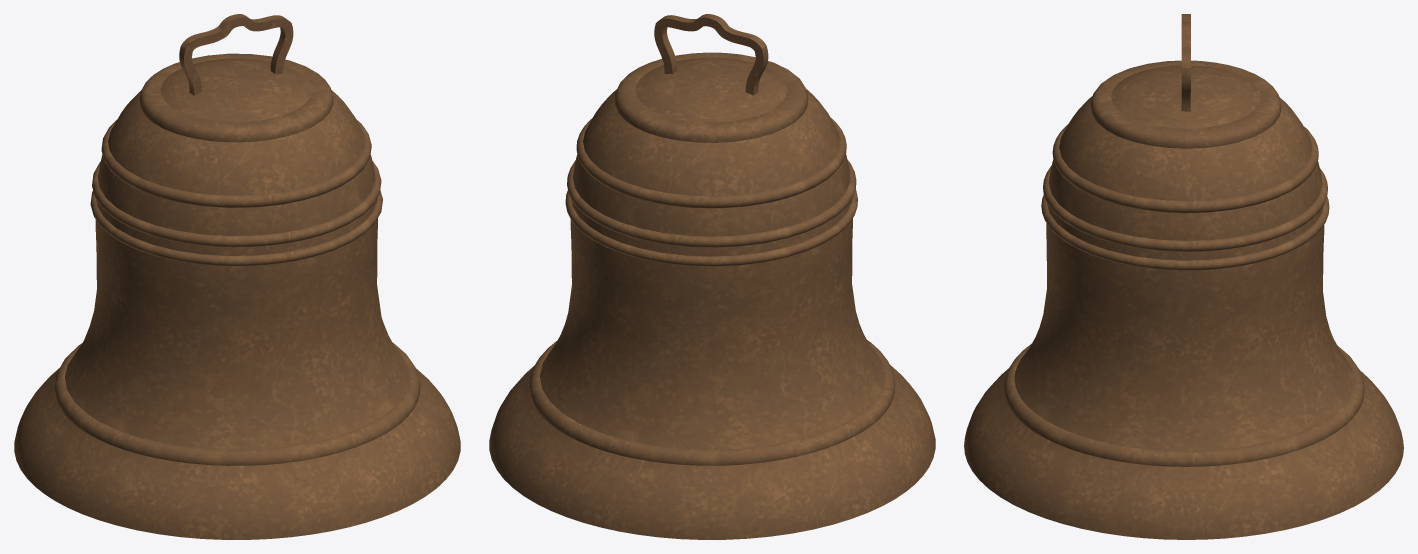
The model's file is bell.glb.
3 renders of one model, left to right at view 1: azimuth 30°, elevation 25°; view 2: azimuth 150°, elevation 25°; view 3: azimuth 270°, elevation 25°, orthographic.
Parts seen in each view (by area): view 1: Body2, Body8; view 2: Body2, Body8; view 3: Body2, Body8.
Part boxes in pixels (x1=…): Body2: x1=14, y1=53, x2=460, y2=539; Body8: x1=179, y1=14, x2=293, y2=95; Body2: x1=489, y1=52, x2=935, y2=539; Body8: x1=654, y1=14, x2=768, y2=95; Body2: x1=964, y1=60, x2=1403, y2=539; Body8: x1=1181, y1=14, x2=1190, y2=111.
Size of the model in its own units: 0.1909 by 0.2371 by 0.1909.
Materials: 2 (2 with a texture image).
